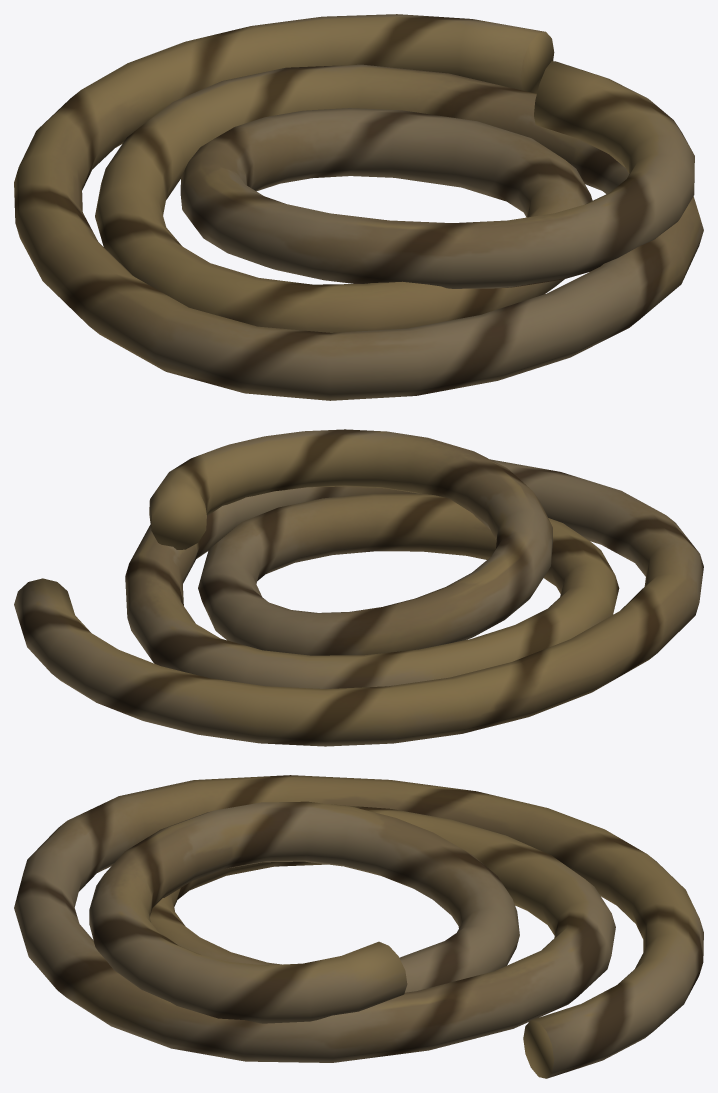
Rendered from rope_1.gltf.
3 views of the same model, one above another, from view 1: azimuth 30°, elevation 25°; view 2: azimuth 150°, elevation 25°; view 3: azimuth 270°, elevation 25° (orthographic). The views are drawn at different scales.
Parts seen in each view (by area): view 1: Rope_1; view 2: Rope_1; view 3: Rope_1.
Boxes of the visible parts, <box> form: Rope_1: <box>14,14,703,400</box>; Rope_1: <box>14,429,703,746</box>; Rope_1: <box>14,775,703,1078</box>.
Bounding box in the file's own units: 0.5574 × 0.0979 × 0.6063.
Materials: 1 (1 with a texture image).
